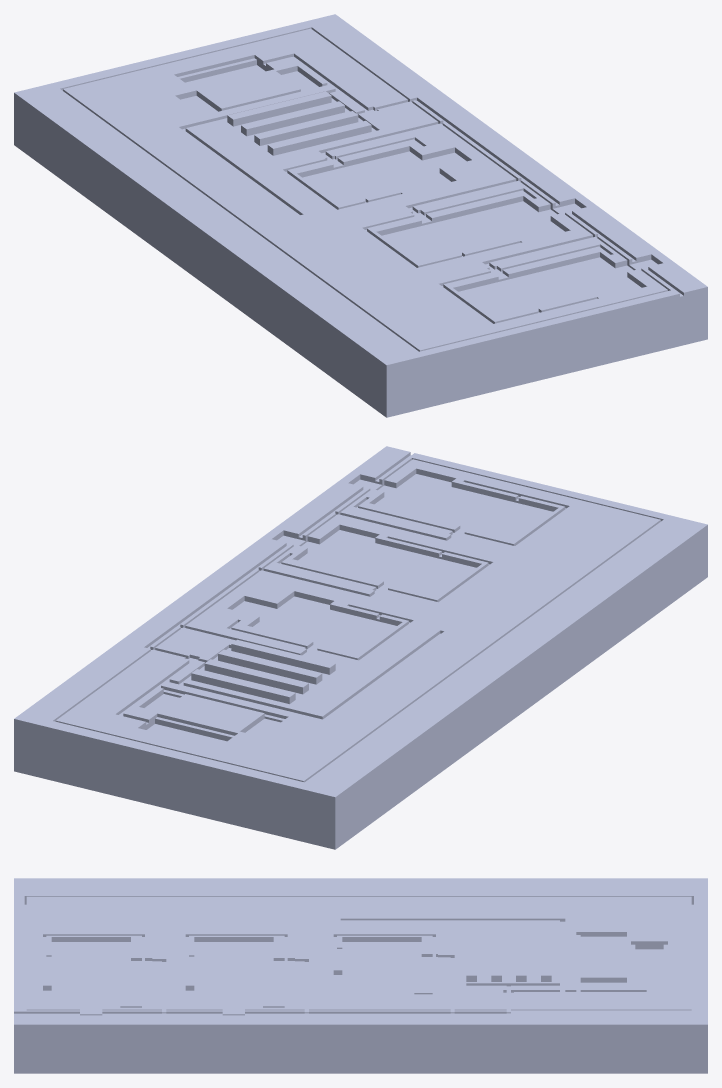
The model's file is dizuo.fbx.
The picture shows the model from 3 angles, top to bottom: view 1: azimuth 30°, elevation 25°; view 2: azimuth 150°, elevation 25°; view 3: azimuth 270°, elevation 25°; orthographic projection. The views are drawn at different scales.
Visible parts, largest first — view 1: bottom; view 2: bottom; view 3: bottom.
Part boxes in pixels (left/top/right/bottom): bottom: left=14, top=14, right=707, bottom=417; bottom: left=14, top=446, right=707, bottom=849; bottom: left=14, top=878, right=707, bottom=1073.
Bounding box in the file's own units: 32 × 5.66 × 64.25.
